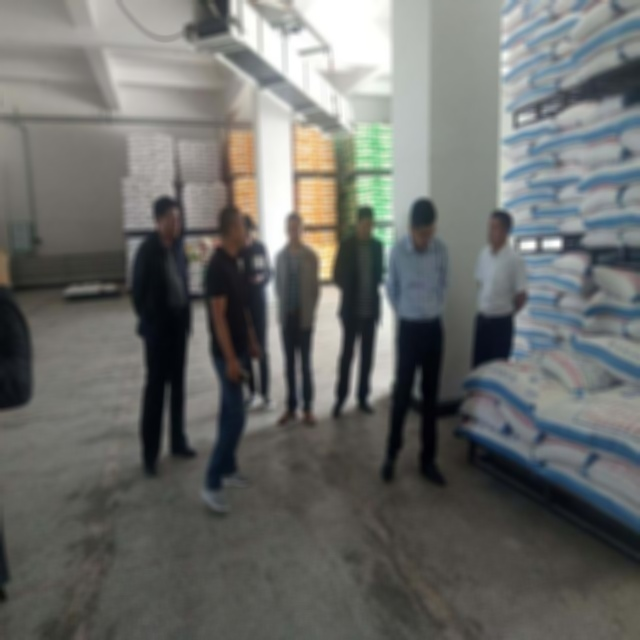Sin_Casco_Mascarrilla: (217, 206, 247, 253), (153, 194, 182, 240), (284, 212, 304, 248)
